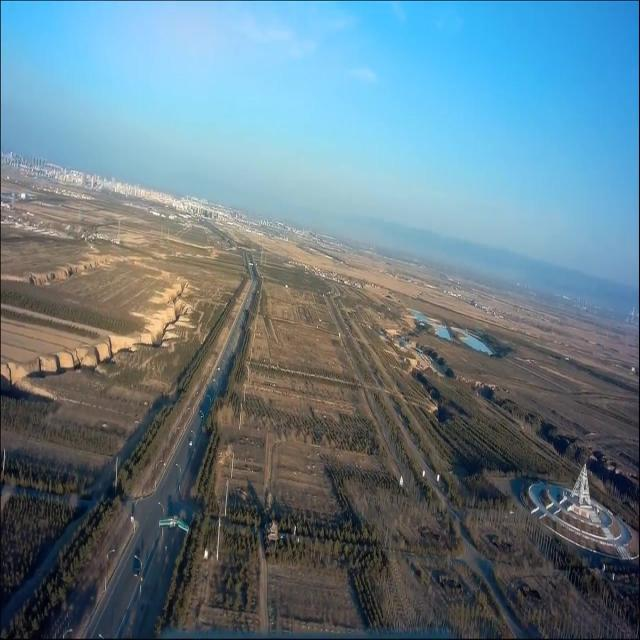iha: (157, 516, 189, 534)
